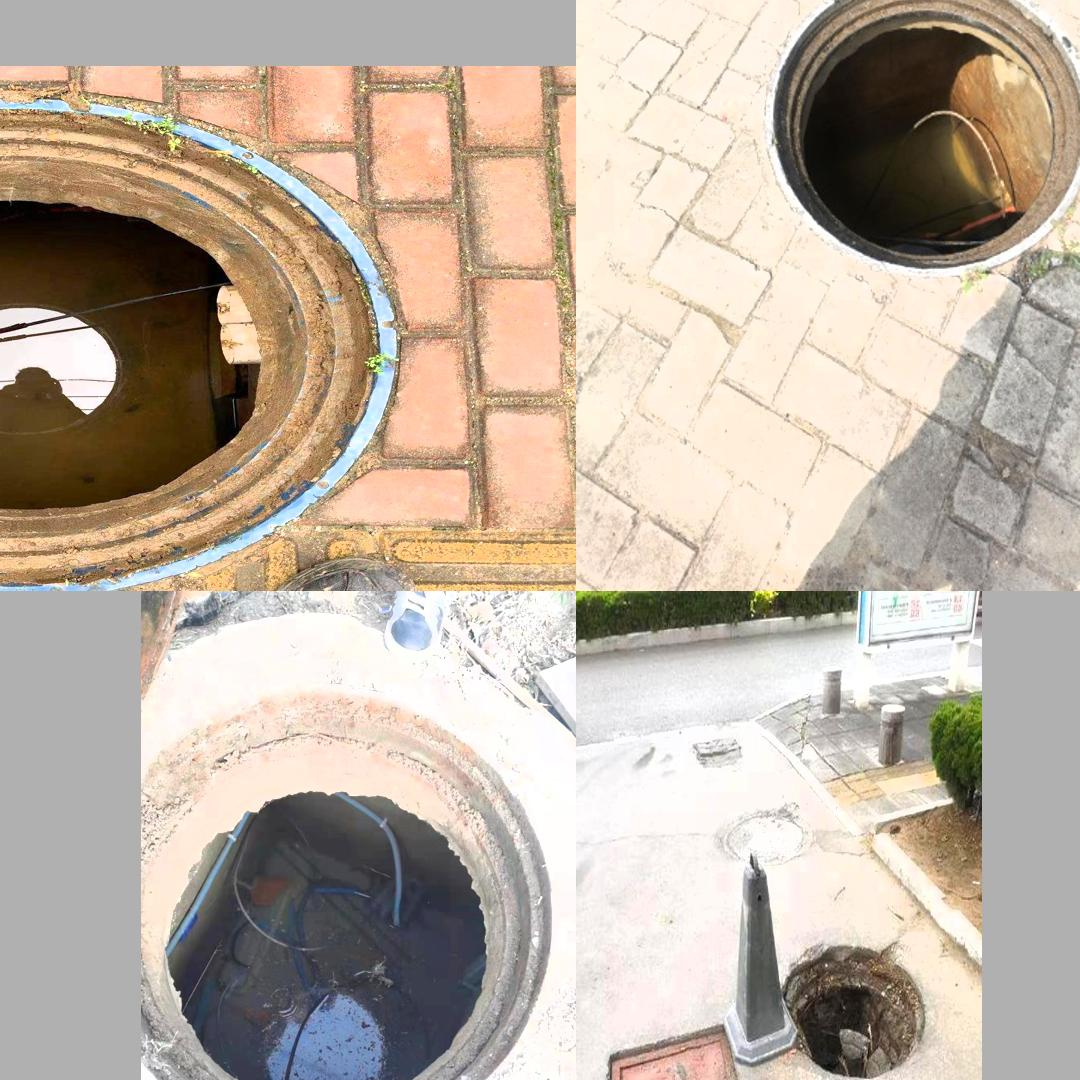lose: (0, 97, 401, 591), (146, 686, 551, 1080), (761, 0, 1080, 277), (777, 919, 925, 1080)
